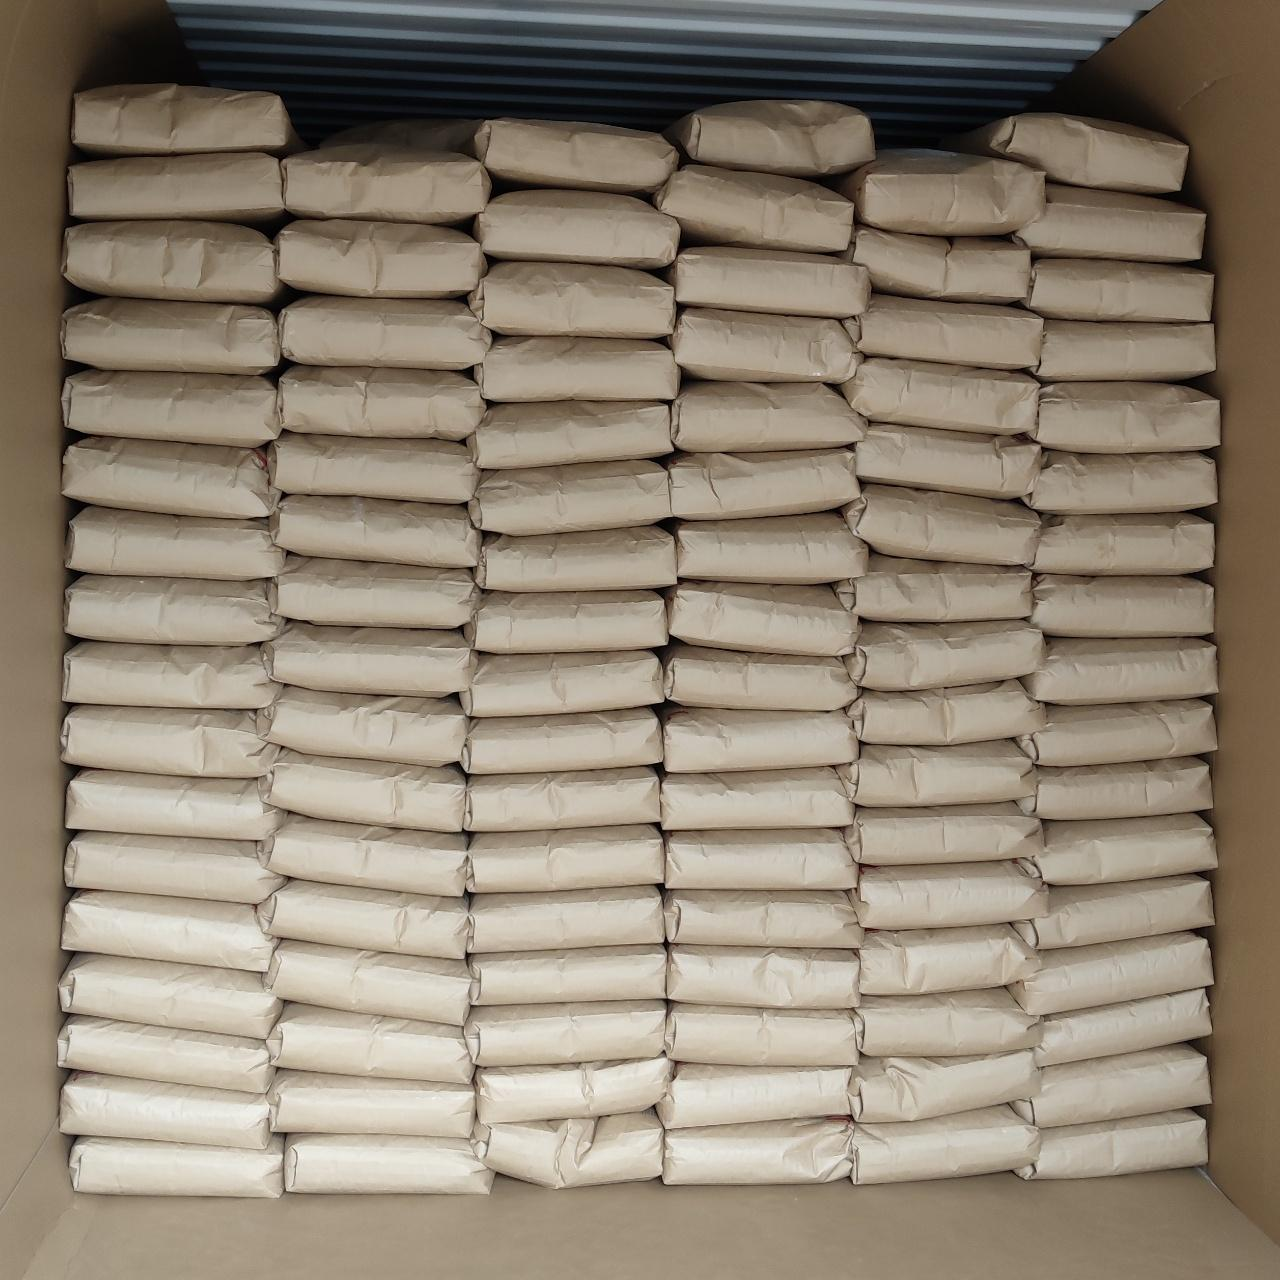sack: (950, 113, 1188, 194), (60, 955, 279, 1039), (63, 221, 284, 303), (62, 436, 280, 519), (66, 506, 303, 580), (655, 164, 852, 253), (840, 150, 1043, 235), (266, 940, 470, 1024), (62, 892, 276, 971), (62, 298, 281, 375), (62, 370, 281, 447), (71, 83, 305, 155), (260, 815, 468, 896), (267, 1002, 473, 1083), (1010, 1044, 1210, 1127), (282, 144, 489, 224), (1009, 933, 1213, 1014), (473, 189, 679, 269), (59, 1016, 272, 1093), (258, 880, 468, 958), (276, 220, 486, 297), (60, 1073, 271, 1149), (263, 687, 468, 765), (269, 750, 465, 831), (843, 484, 1040, 564), (662, 102, 874, 176), (469, 118, 678, 193), (64, 832, 282, 903), (262, 623, 474, 696), (469, 262, 672, 338), (66, 770, 285, 840), (280, 296, 490, 369), (841, 357, 1040, 434), (280, 366, 485, 440), (469, 460, 671, 535), (62, 706, 275, 777), (65, 575, 281, 645), (270, 495, 480, 567), (271, 555, 478, 628), (1016, 183, 1205, 262), (270, 432, 478, 503), (70, 153, 284, 222), (851, 1105, 1039, 1183), (845, 295, 1043, 369), (476, 1111, 663, 1188), (668, 246, 870, 317), (63, 642, 280, 708), (1020, 875, 1213, 949), (266, 1069, 474, 1137), (667, 582, 858, 656), (669, 308, 858, 382), (847, 227, 1030, 303), (856, 423, 1040, 498), (1017, 815, 1217, 884), (1028, 381, 1219, 453), (467, 401, 672, 468), (850, 1050, 1040, 1122), (845, 621, 1043, 690), (673, 381, 865, 452), (1033, 989, 1210, 1066), (674, 513, 867, 583), (460, 651, 664, 717), (460, 708, 663, 774), (468, 885, 664, 953), (669, 449, 859, 519), (465, 1000, 666, 1066), (852, 861, 1047, 929), (1015, 1110, 1207, 1179), (476, 526, 676, 592), (476, 337, 679, 402), (467, 825, 663, 892), (835, 554, 1033, 620), (70, 1137, 283, 1198), (839, 740, 1035, 806), (1021, 638, 1217, 704), (1018, 700, 1217, 765), (475, 1057, 672, 1122), (664, 644, 858, 710), (466, 590, 667, 653), (464, 767, 660, 831), (848, 680, 1044, 744), (663, 708, 858, 772), (658, 1064, 851, 1128), (662, 1119, 852, 1184), (845, 801, 1041, 864), (861, 924, 1037, 994), (856, 988, 1037, 1056), (1017, 757, 1212, 820), (285, 1135, 494, 1193), (661, 767, 853, 830), (1021, 259, 1213, 322), (1022, 451, 1216, 512), (665, 1004, 858, 1065), (666, 947, 859, 1008), (471, 945, 666, 1004), (665, 889, 861, 947), (1030, 575, 1212, 637), (666, 830, 857, 889), (1032, 515, 1213, 574), (1034, 321, 1214, 380)
